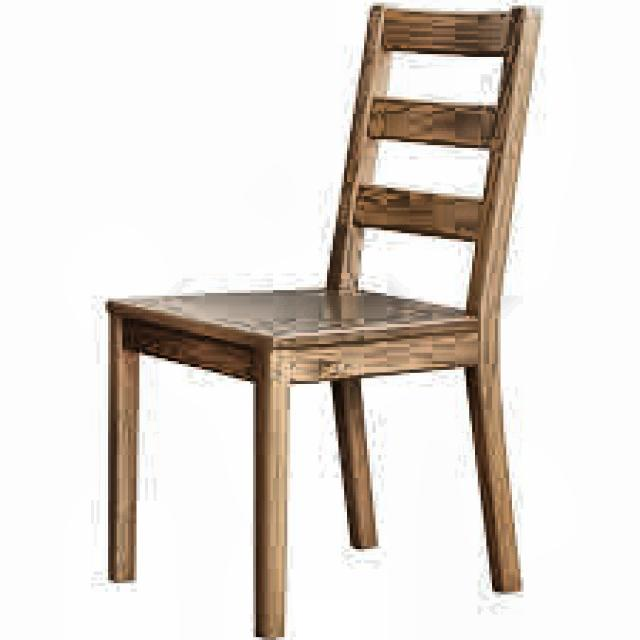cadeira: (99, 0, 546, 640)
